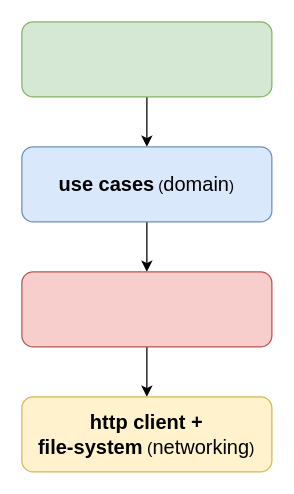
Some shapes in this 294 by 494 pixel diagram are drawn without their labels. The shapes that lost their labels are listed below. From the top down, each one's box as (x1, y1, x2, y2) in pixels, then its label:
(21, 21, 272, 97): http server ( ui )
(21, 271, 272, 347): models + repositories (data)
